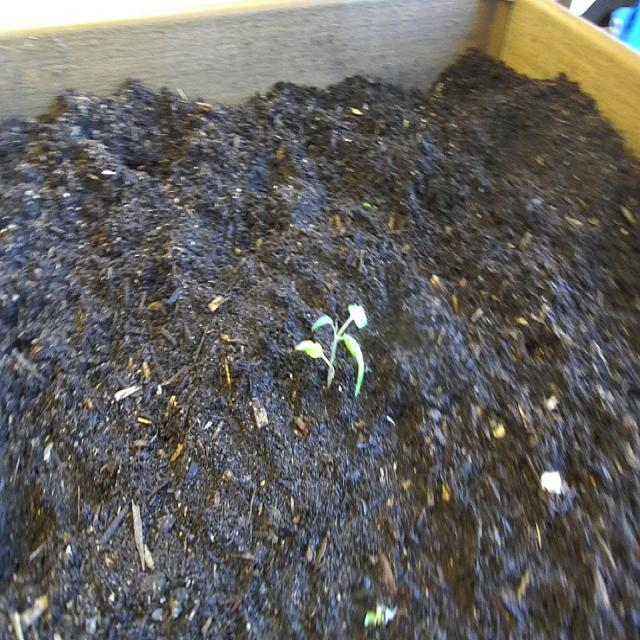Healthy: (292, 298, 371, 404)
